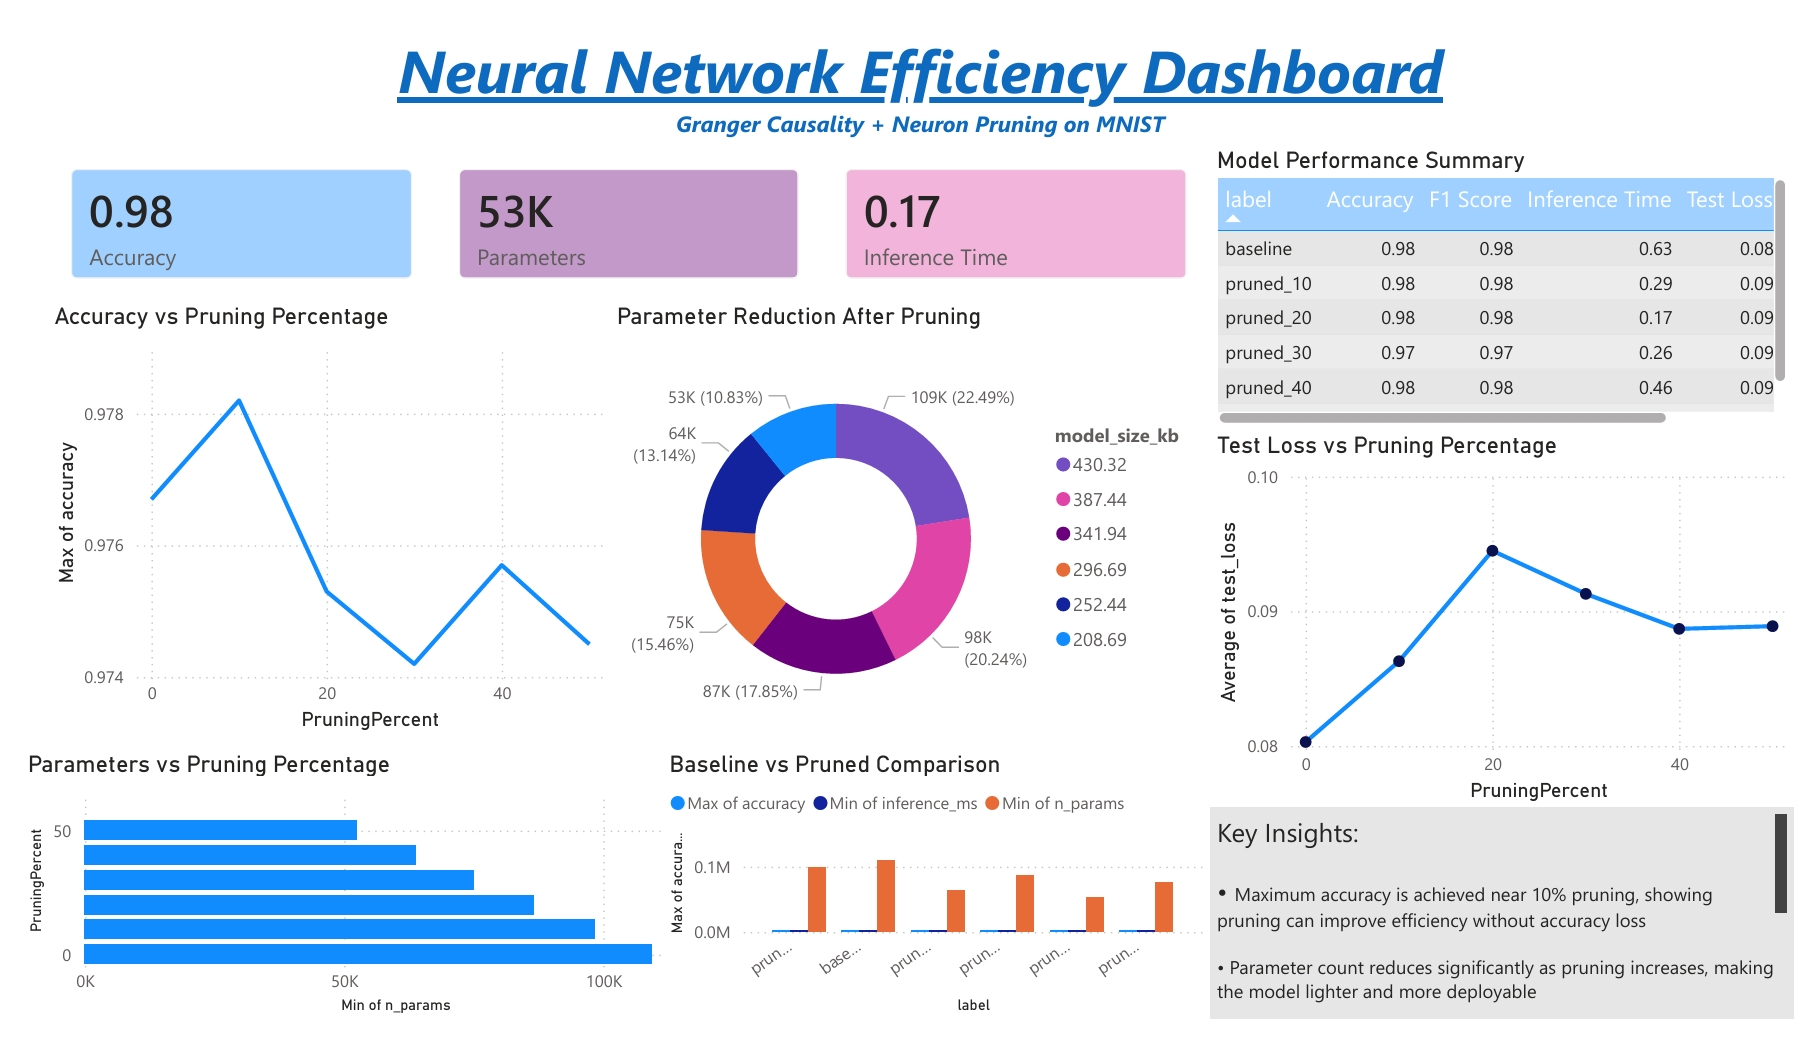

The dashboard page shown, as its layout file describes it:
{"tool":"powerbi","page":{"name":"OverView","canvas":[1280,720],"ordinal":0},"visuals":[{"type":"cardVisual","fields":{"Data":["Max(metrics.accuracy)"]},"box":[18.9,88.8,279.7,113.4],"z":0},{"type":"textbox","box":[18.9,0,1260.5,88.8],"z":1000},{"type":"cardVisual","fields":{"Data":["Min(metrics.n_params)"]},"box":[298.6,88.8,279.7,113.4],"z":1001},{"type":"cardVisual","fields":{"Data":["Min(metrics.inference_ms)"]},"box":[578.3,88.8,279.7,113.4],"z":1002},{"type":"lineChart","title":"Accuracy vs Pruning Percentage","fields":{"Category":["metrics.PruningPercent"],"Y":["Max(metrics.accuracy)"]},"box":[18.9,202.2,406.3,313.7],"z":1003},{"type":"barChart","title":"Parameters vs Pruning Percentage","fields":{"Category":["metrics.PruningPercent"],"Y":["Min(metrics.n_params)"]},"box":[0,525.4,514,194.6],"z":1004},{"type":"tableEx","title":"Model Performance Summary","fields":{"Values":["metrics.label","Max(metrics.accuracy)","Max(metrics.f1_score)","Min(metrics.inference_ms)","Avg(metrics.test_loss)","Min(metrics.n_params)"]},"box":[858,88.8,421.4,206],"z":1005},{"type":"textbox","box":[858,566.9,421.4,153.1],"z":1006},{"type":"lineChart","title":"Test Loss vs Pruning Percentage","fields":{"Category":["metrics.PruningPercent"],"Y":["Avg(metrics.test_loss)"]},"box":[858,294.8,421.4,272.1],"z":1007},{"type":"donutChart","title":"Parameter Reduction After Pruning","fields":{"Category":["metrics.model_size_kb"],"Y":["Min(metrics.n_params)"]},"box":[425.2,202.2,432.8,323.2],"z":1008},{"type":"clusteredColumnChart","title":"Baseline vs Pruned Comparison","fields":{"Y":["Max(metrics.accuracy)","Min(metrics.inference_ms)","Min(metrics.n_params)"],"Category":["metrics.label"]},"box":[463,525.4,395,194.6],"z":1009}]}

Visuals, with their boxes in screenshot pixels (x1, y1, x2, y2), scaled from the page's 1280x720 canvas onto the 1820x1040 screenshot:
cardVisual - Max(metrics.accuracy): bbox=[27, 128, 425, 292]
textbox: bbox=[27, 0, 1819, 128]
cardVisual - Min(metrics.n_params): bbox=[425, 128, 822, 292]
cardVisual - Min(metrics.inference_ms): bbox=[822, 128, 1220, 292]
"Accuracy vs Pruning Percentage" lineChart: bbox=[27, 292, 605, 745]
"Parameters vs Pruning Percentage" barChart: bbox=[0, 759, 731, 1039]
"Model Performance Summary" tableEx: bbox=[1220, 128, 1819, 426]
textbox: bbox=[1220, 819, 1819, 1039]
"Test Loss vs Pruning Percentage" lineChart: bbox=[1220, 426, 1819, 819]
"Parameter Reduction After Pruning" donutChart: bbox=[605, 292, 1220, 759]
"Baseline vs Pruned Comparison" clusteredColumnChart: bbox=[658, 759, 1220, 1039]
